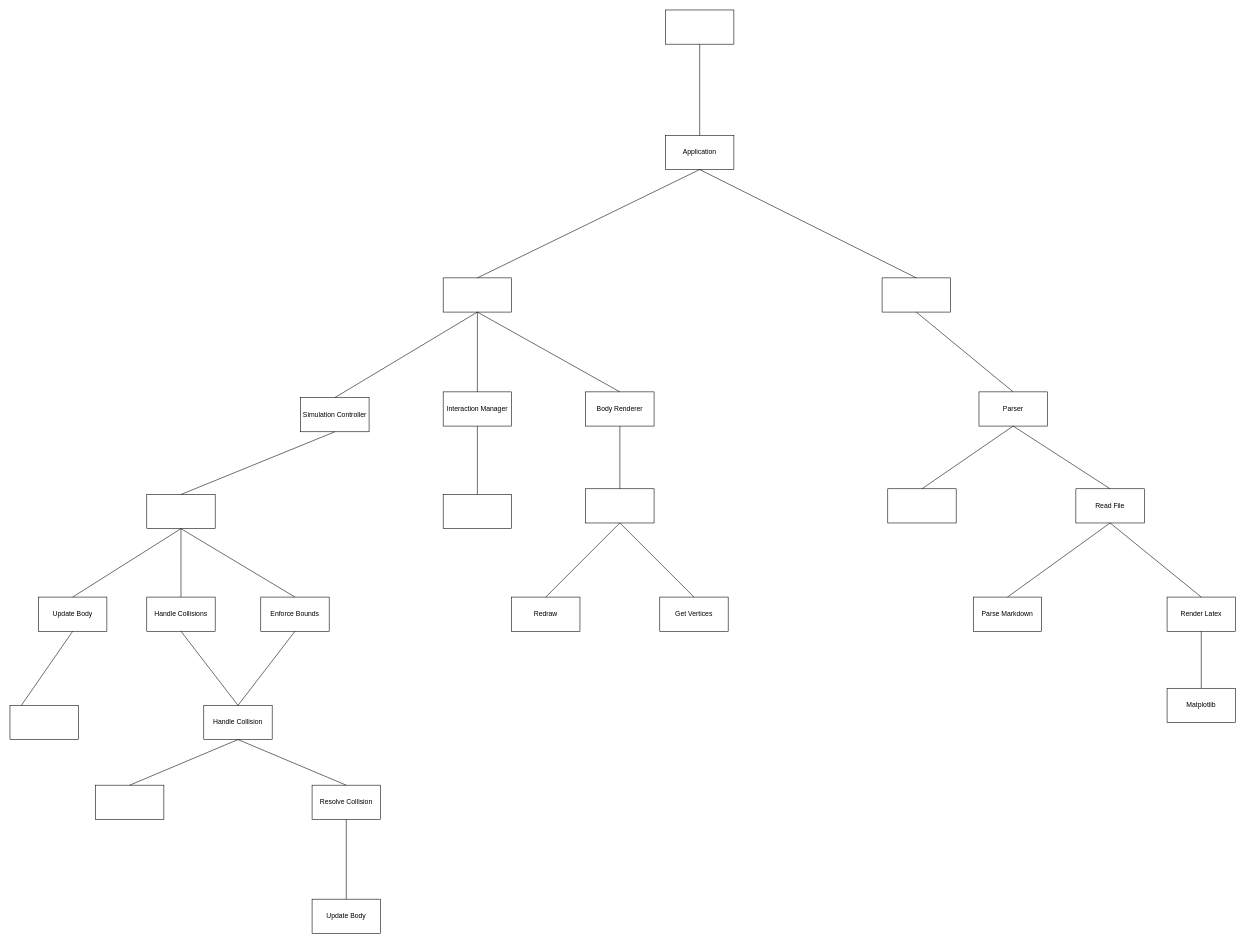
Image size: 1245x943. Some labels were removed from this diagram. The shapes that lost their labels are listed below. From the top down, each one's centre as x and y in pixels, then its label:
At point 699,26: "main".
At point 477,294: "Simulation Canvas".
At point 916,294: "Lesson Manager".
At point 180,511: "Engine".
At point 477,511: "Setup Handlers".
At point 619,505: "Update".
At point 921,505: "Render on Frame".
At point 43,722: "Update Properties".
At point 129,802: "SAT".
